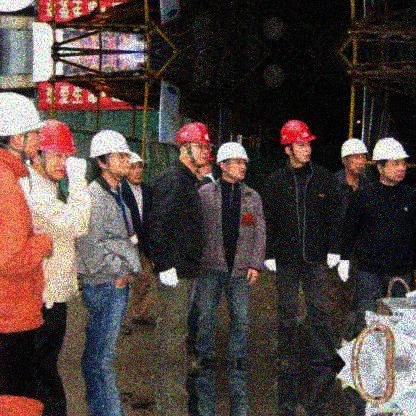helmet: (1, 93, 45, 164), (36, 118, 78, 181), (85, 129, 129, 179), (278, 117, 316, 166), (177, 121, 212, 174), (372, 137, 412, 182), (216, 141, 249, 182), (339, 137, 370, 177), (129, 150, 144, 183)
